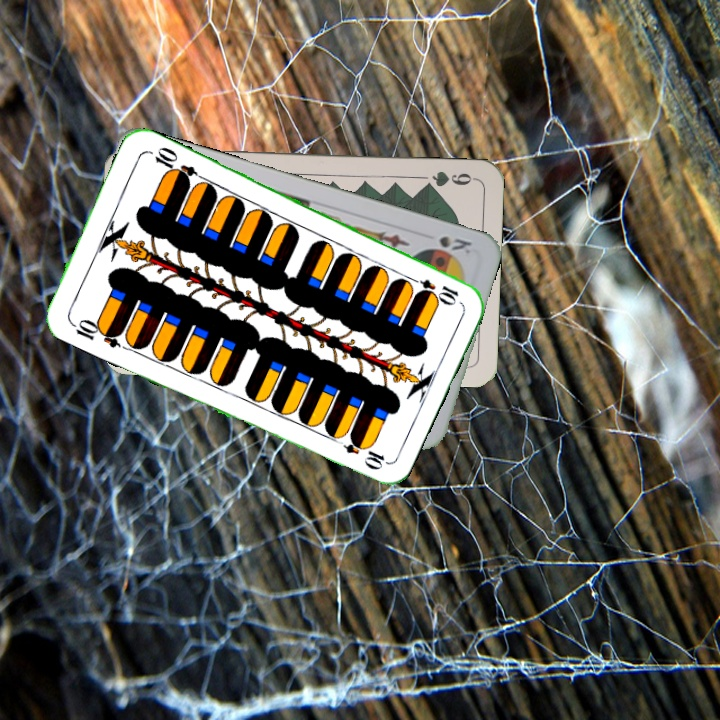E10: (65, 314, 125, 351), (404, 273, 462, 308)
G9: (418, 167, 478, 191)
SK: (435, 231, 475, 257)
